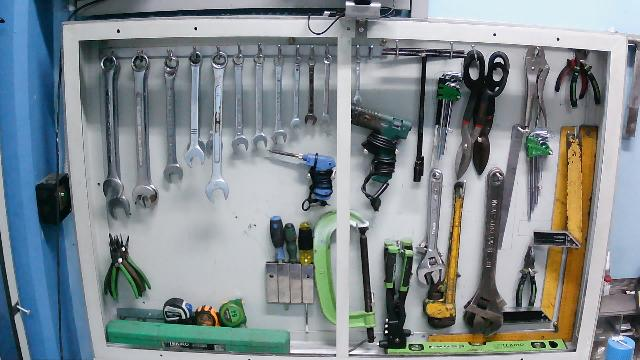gun_lem: (351, 103, 414, 214)
